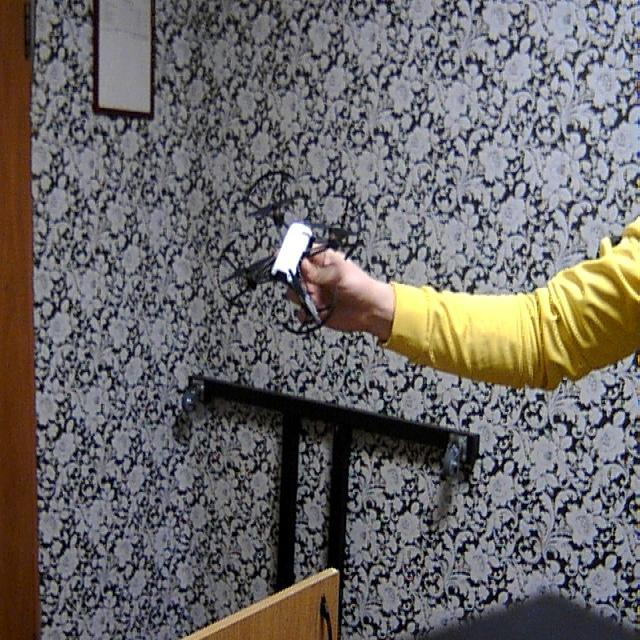drone: (215, 162, 372, 340)
